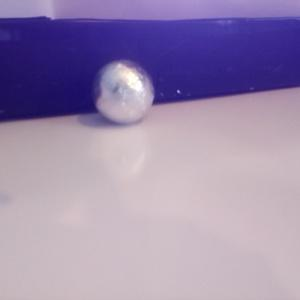zone: (1, 17, 300, 122)
